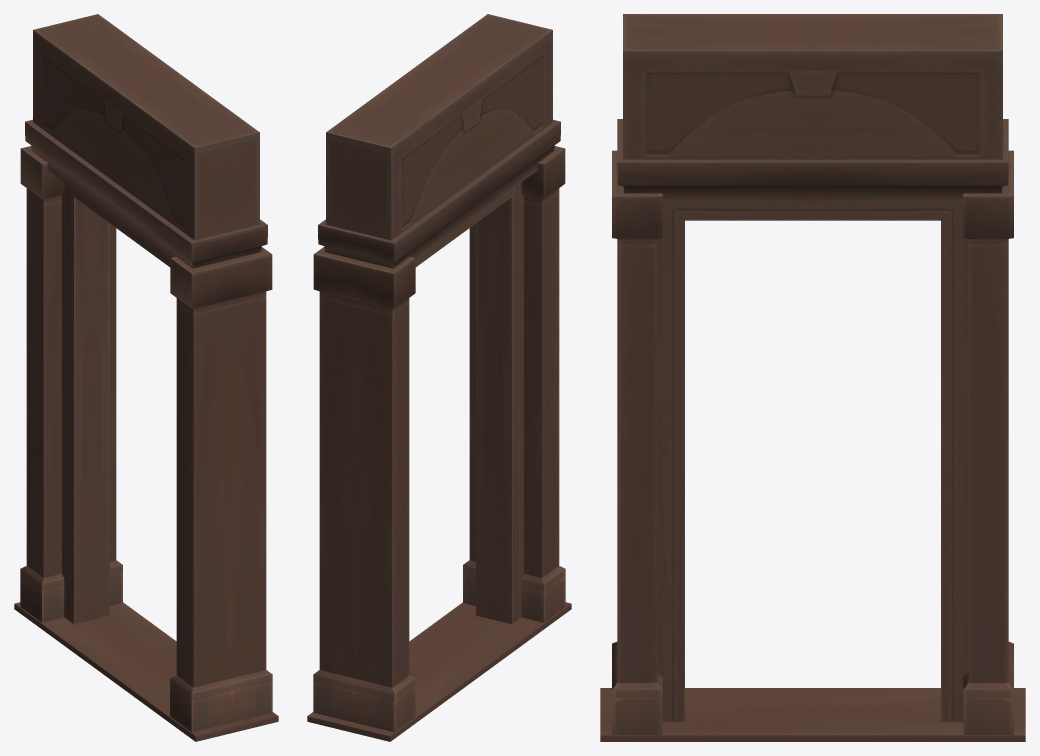
File: MarcoPuerta.obj
The picture shows the model from 3 angles, left to right: view 1: azimuth 30°, elevation 25°; view 2: azimuth 150°, elevation 25°; view 3: azimuth 270°, elevation 25°; orthographic projection. The views are drawn at different scales.
Parts seen in each view (by area): view 1: pasted__Indoor_MdProps_Knight_Door02_1_Vo_0 group; view 2: pasted__Indoor_MdProps_Knight_Door02_1_Vo_0 group; view 3: pasted__Indoor_MdProps_Knight_Door02_1_Vo_0 group.
Part boxes in pixels (x1,y1,x2,y2): pasted__Indoor_MdProps_Knight_Door02_1_Vo_0 group: (14,14,278,741); pasted__Indoor_MdProps_Knight_Door02_1_Vo_0 group: (307,14,571,741); pasted__Indoor_MdProps_Knight_Door02_1_Vo_0 group: (600,14,1025,741).
Size of the model in its own units: 0.61 by 4.11 by 2.31.
Materials: 1 (1 with a texture image).
